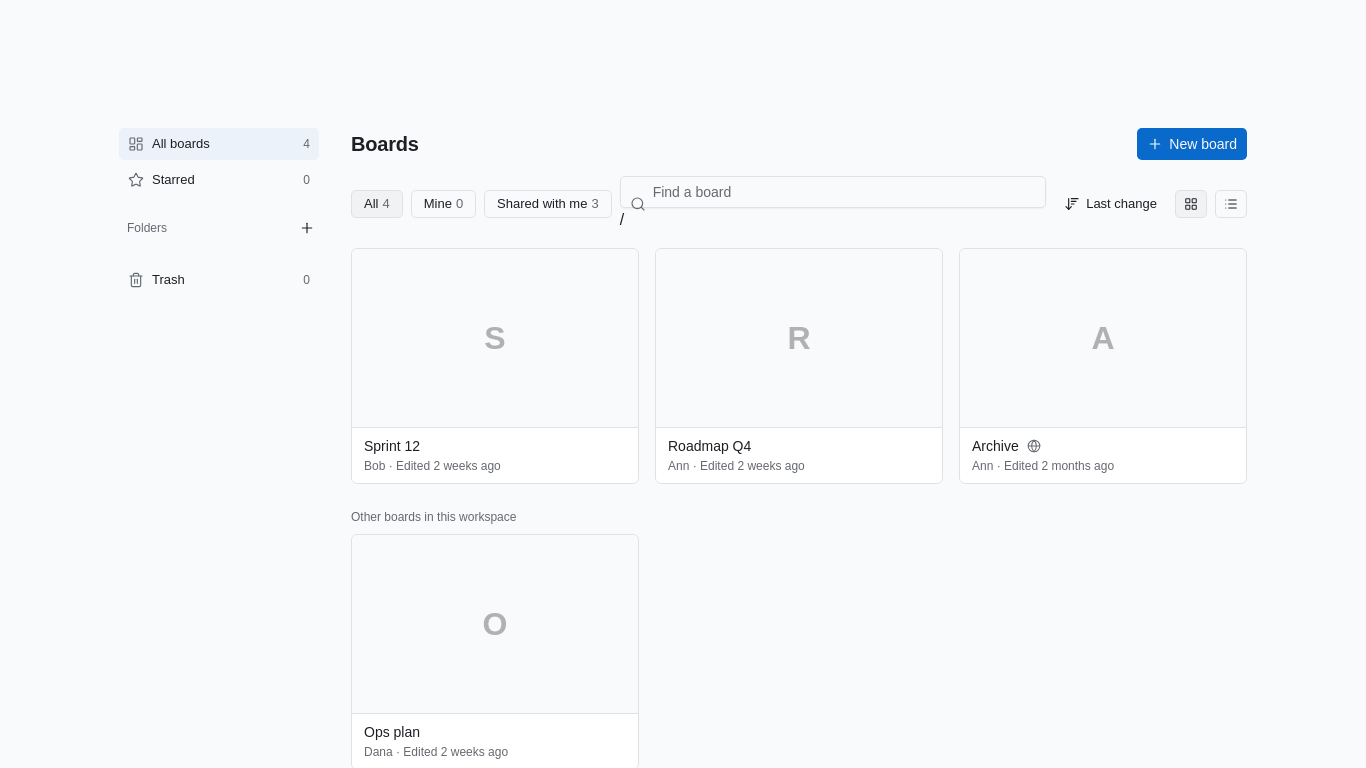
it: an admin sees other people's boards apart, only under All
This screenshot has width=1366, height=768.
expect the text "Ops plan" is shown: met, box [364, 722, 420, 742]
Click the radio button labelled "Mine 0".
click(443, 204)  # box [411, 190, 476, 218]
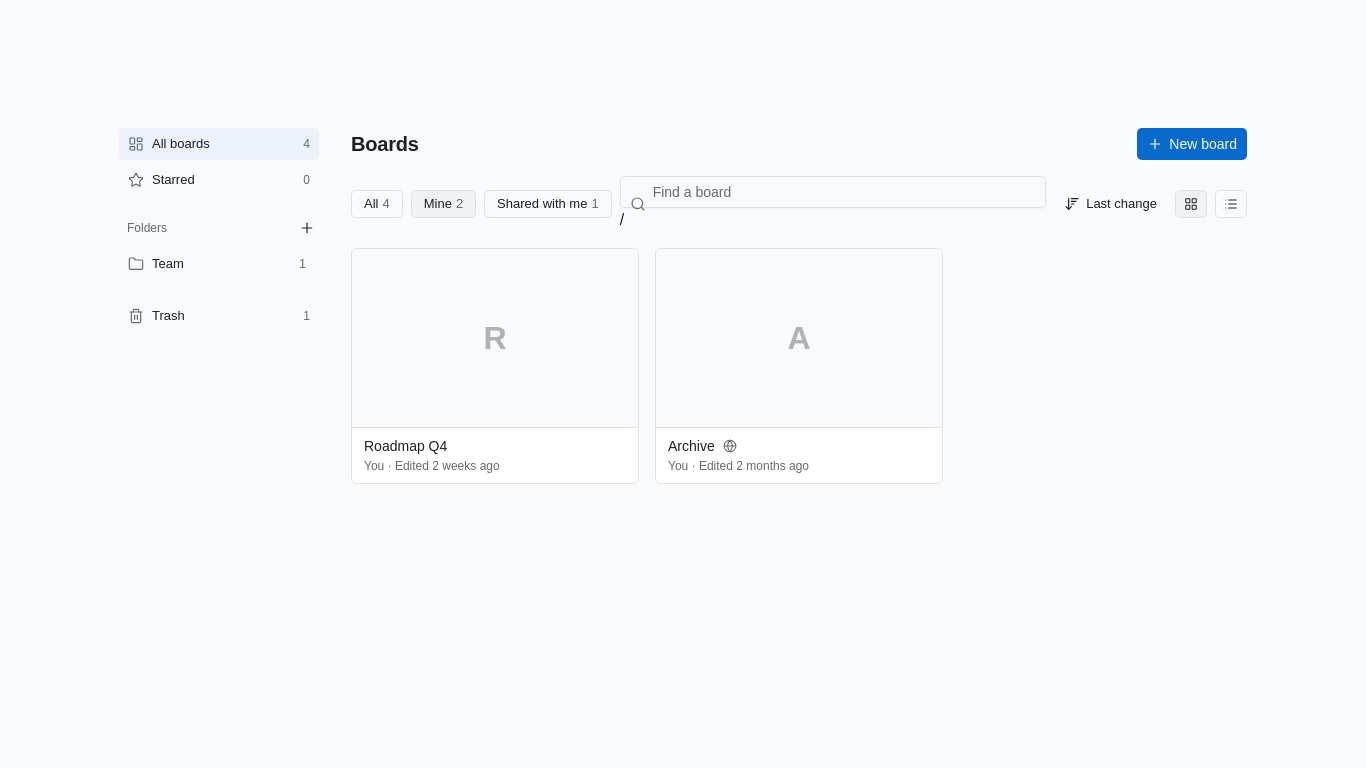
expect the link "Ops plan" is gone: met
